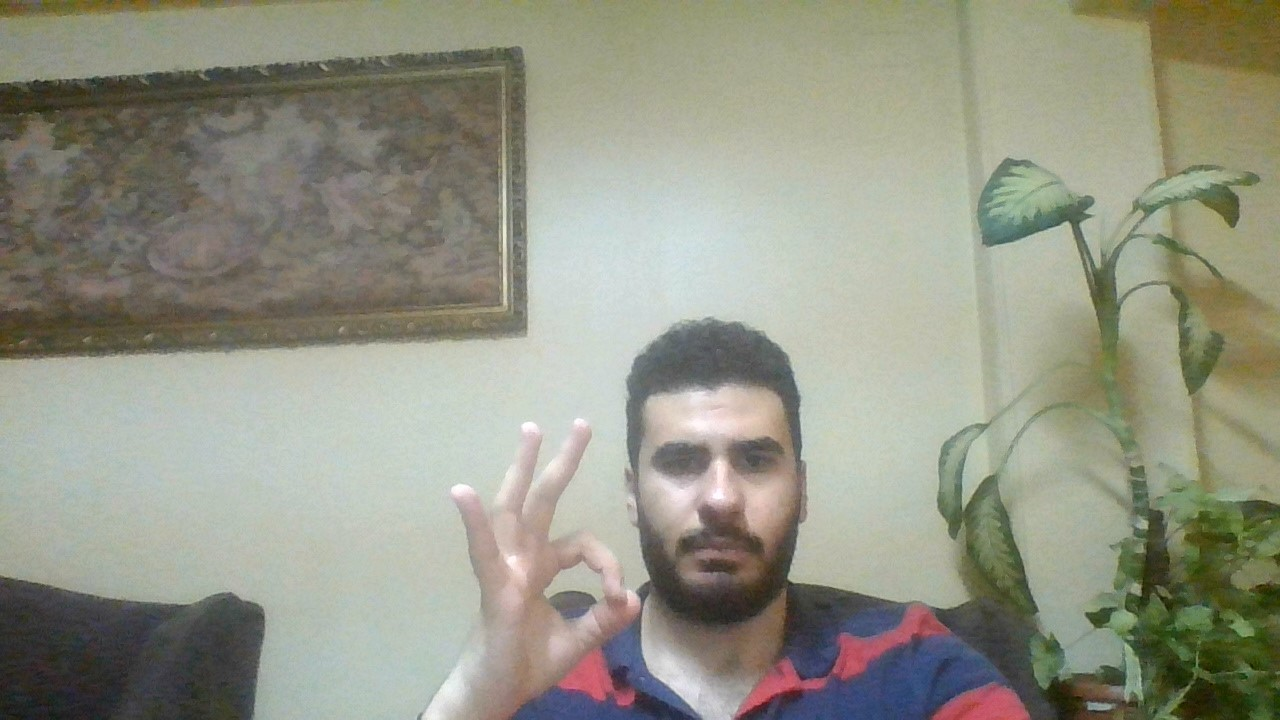okay: (436, 397, 641, 691)
